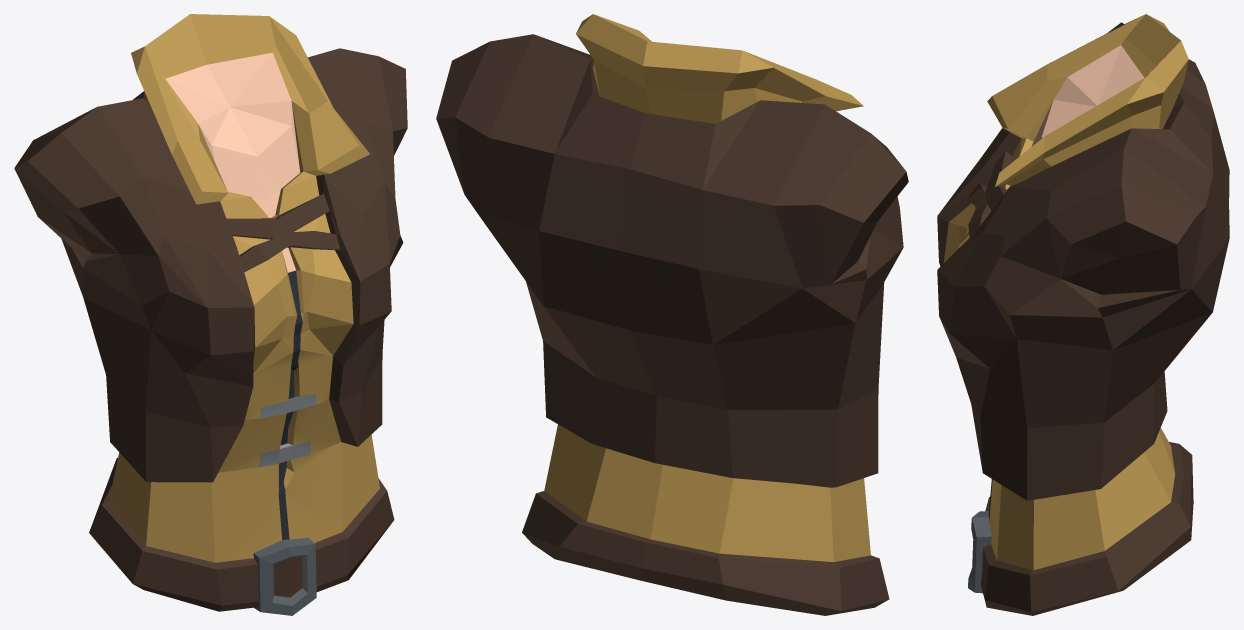
File: Chr_Torso_Female_28_Static.fbx
3 views of the same model, side by side, from view 1: azimuth 30°, elevation 25°; view 2: azimuth 150°, elevation 25°; view 3: azimuth 270°, elevation 25° (orthographic). The views are drawn at different scales.
Visible parts, largest first — view 1: Chr_Torso_Female_28_Static; view 2: Chr_Torso_Female_28_Static; view 3: Chr_Torso_Female_28_Static.
Boxes of the visible parts, <box> form: Chr_Torso_Female_28_Static: <box>14,14,407,615</box>; Chr_Torso_Female_28_Static: <box>436,14,908,615</box>; Chr_Torso_Female_28_Static: <box>937,14,1229,615</box>.
Size of the model in its own units: 0.5172 by 0.6893 by 0.333.
